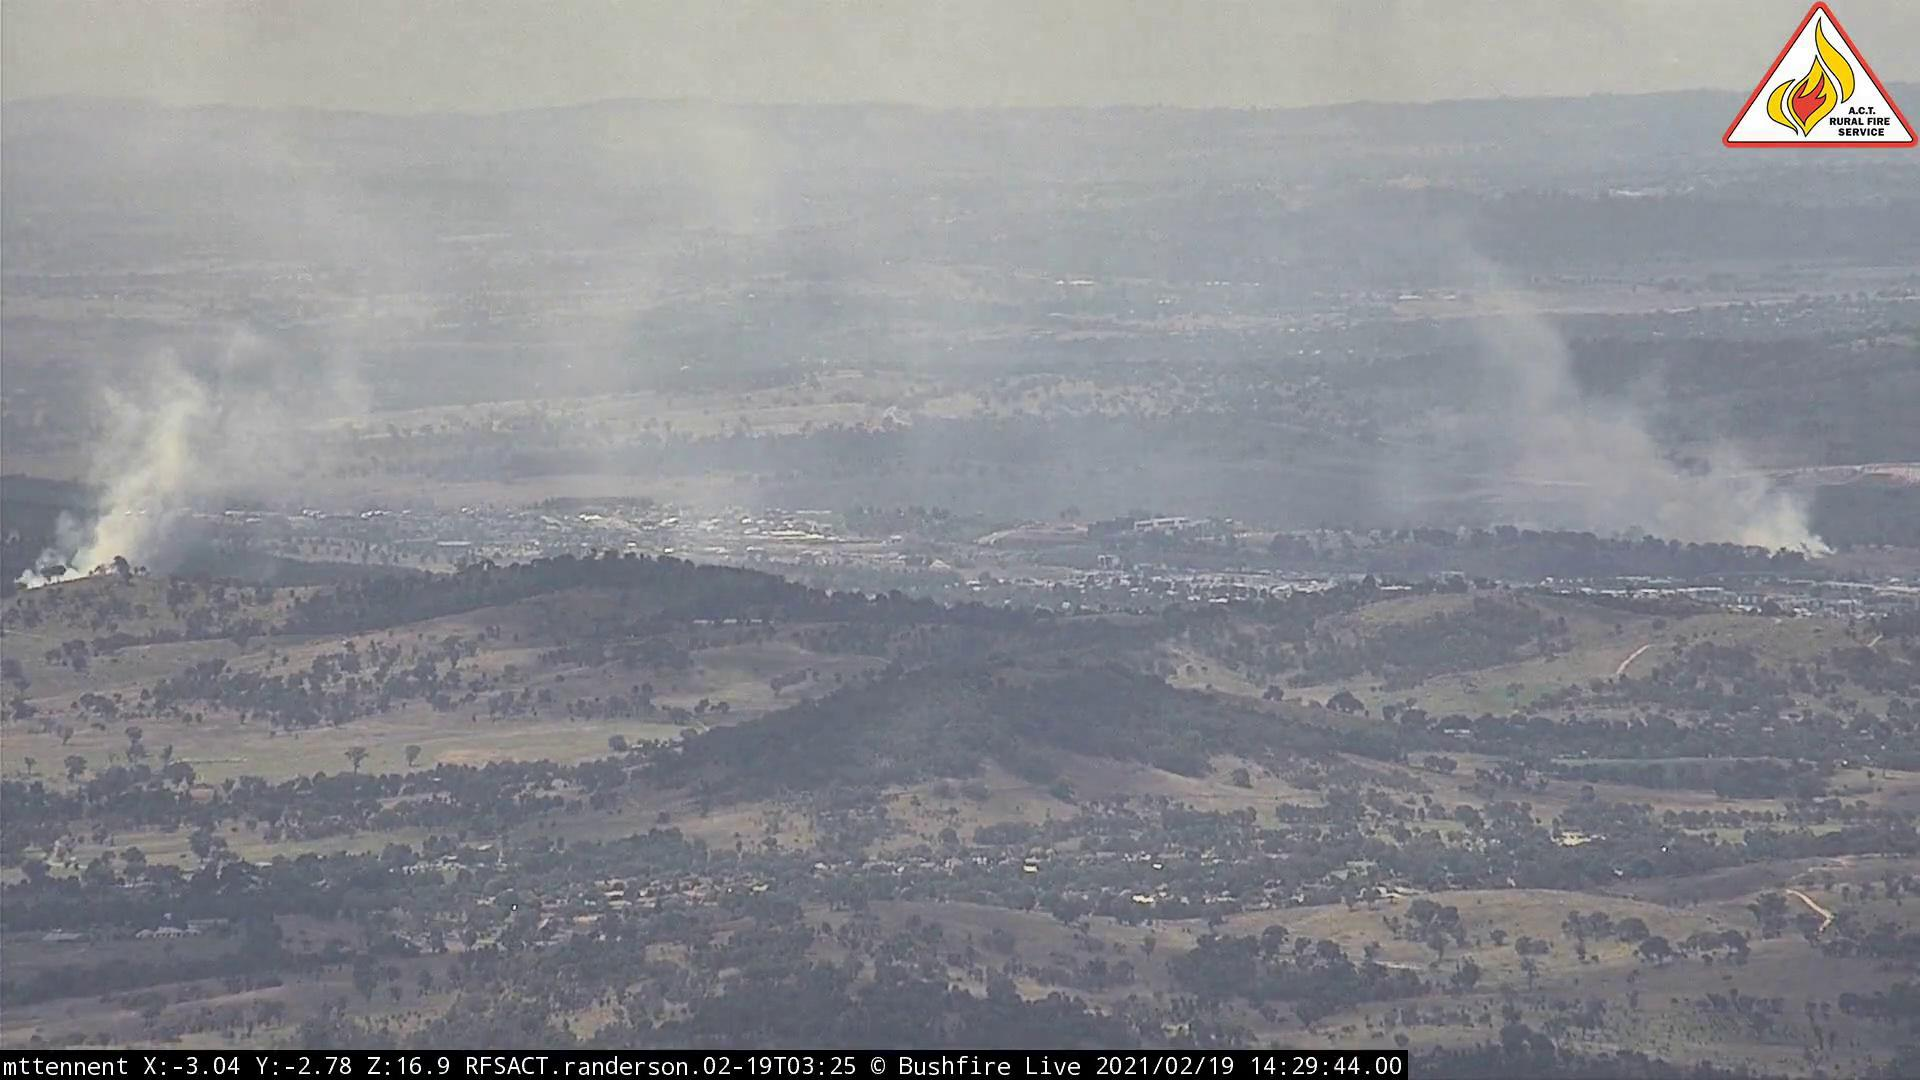Smoke: (15, 274, 462, 611), (1410, 287, 1846, 556)
